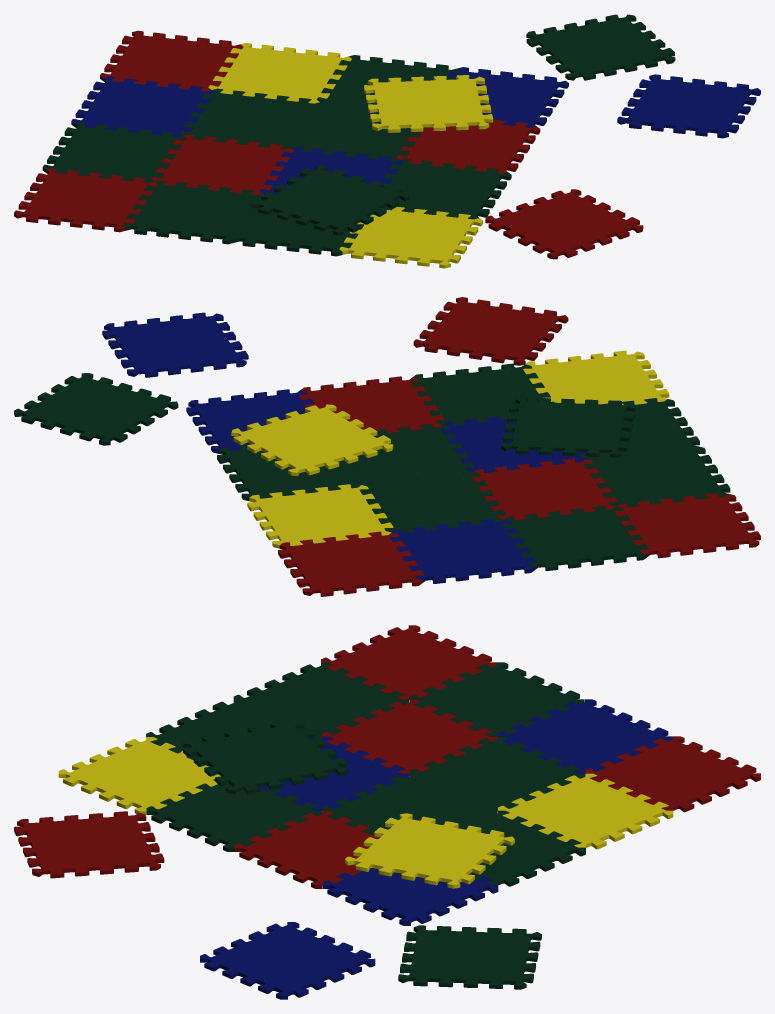
File: Carpet+puzzle+FBX.FBX
3 views of the same model, one above another, from view 1: azimuth 30°, elevation 25°; view 2: azimuth 150°, elevation 25°; view 3: azimuth 270°, elevation 25° (orthographic). The views are drawn at different scales.
Visible parts, largest first — view 1: puzzle, puzzle 006, puzzle 2, puzzle 005, puzzle 004, puzzle 003; view 2: puzzle, puzzle 005, puzzle 003, puzzle 006, puzzle 004, puzzle 2; view 3: puzzle, puzzle 003, puzzle 004, puzzle 2, puzzle 006, puzzle 005.
Boxes of the visible parts, bbox=[...] form: puzzle: bbox=[14, 30, 568, 268]; puzzle 006: bbox=[485, 189, 643, 259]; puzzle 2: bbox=[251, 165, 409, 235]; puzzle 005: bbox=[526, 14, 675, 80]; puzzle 004: bbox=[617, 74, 760, 138]; puzzle 003: bbox=[364, 75, 493, 132]; puzzle: bbox=[186, 350, 760, 596]; puzzle 005: bbox=[14, 373, 178, 445]; puzzle 003: bbox=[231, 404, 393, 476]; puzzle 006: bbox=[413, 297, 568, 365]; puzzle 004: bbox=[102, 312, 248, 377]; puzzle 2: bbox=[501, 397, 635, 457]; puzzle: bbox=[58, 625, 760, 925]; puzzle 003: bbox=[345, 813, 514, 888]; puzzle 004: bbox=[200, 922, 375, 999]; puzzle 2: bbox=[182, 721, 347, 794]; puzzle 006: bbox=[14, 811, 164, 878]; puzzle 005: bbox=[398, 925, 541, 989].
Bounding box in the file's own units: 2149 × 19.8 × 1830.
